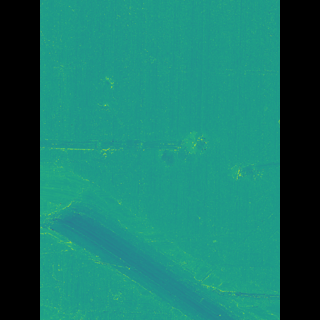Loch: (70, 157, 249, 320), (69, 122, 178, 162), (159, 126, 199, 168), (211, 154, 238, 186)
